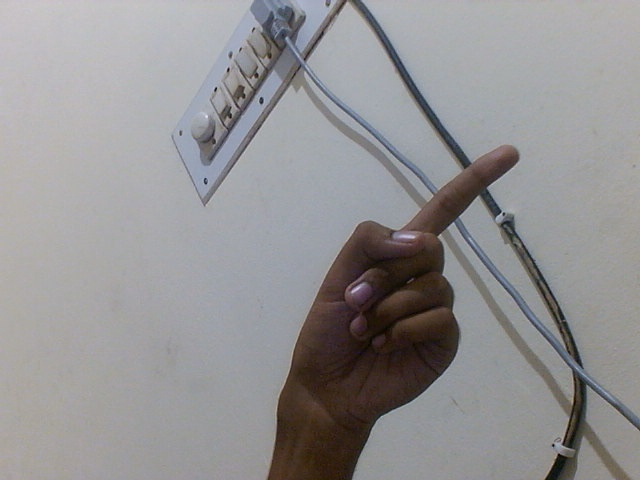hand: (288, 142, 526, 440)
